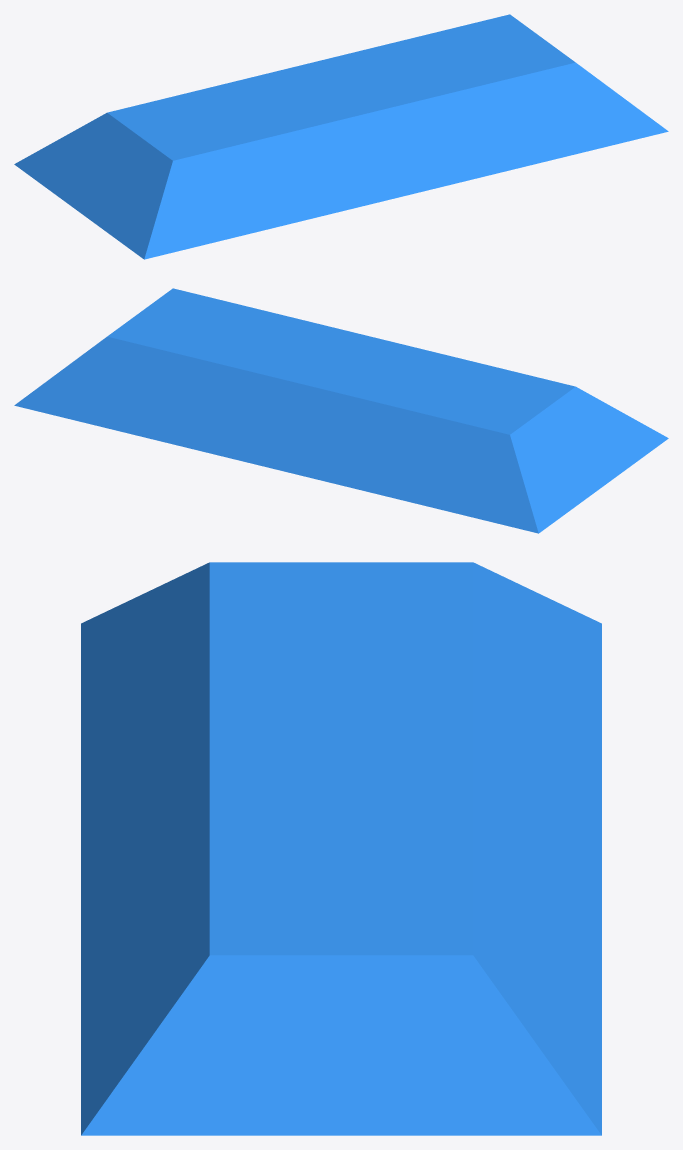
The model's file is MithrilBar.glb.
3 renders of one model, top to bottom at view 1: azimuth 30°, elevation 25°; view 2: azimuth 150°, elevation 25°; view 3: azimuth 270°, elevation 25°, orthographic. The views are drawn at different scales.
Parts seen in each view (by area): view 1: MithrilBar; view 2: MithrilBar; view 3: MithrilBar.
Boxes of the visible parts, x1,y1,x2,y2 form: MithrilBar: [14, 14, 668, 259]; MithrilBar: [14, 288, 668, 533]; MithrilBar: [81, 562, 601, 1135].
Bounding box in the file's own units: 4.19 × 0.4602 × 1.8.
